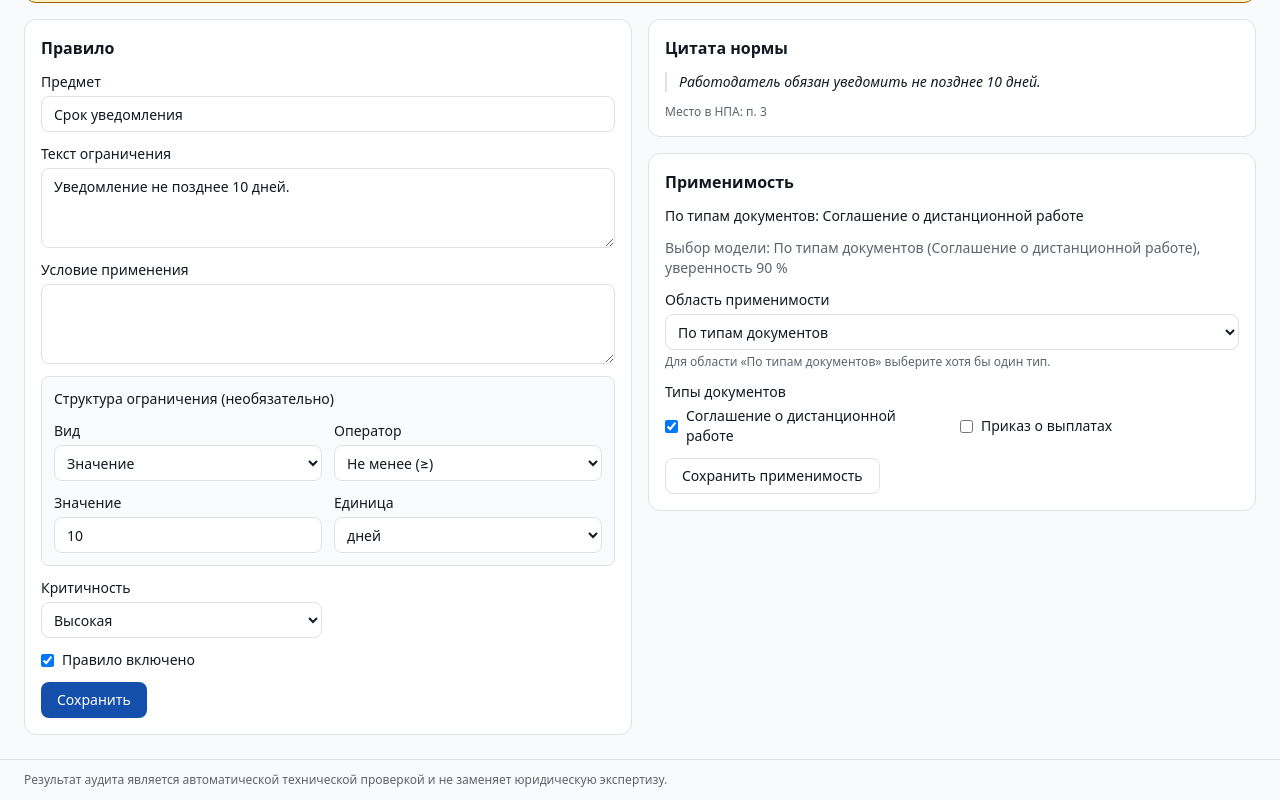
Test case: rule form › shows which parameter the server rejected
(page scrolled)
Click the button "Сохранить" at point(94, 700), box [41, 682, 147, 718]
(page scrolled)
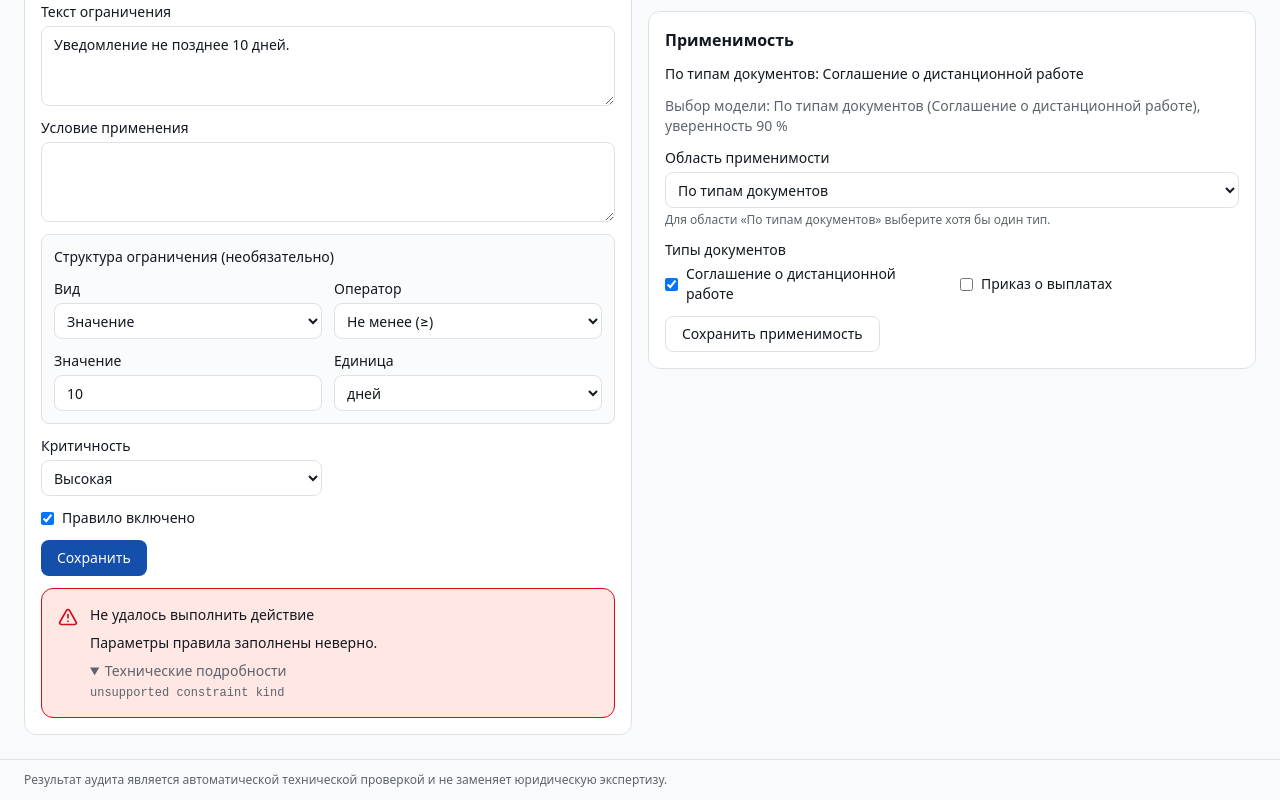
Expected: the message shows "Параметры правила заполнены неверно.", [90, 633, 377, 652]
Expected: the message shows "unsupported constraint kind", [90, 686, 284, 700]
